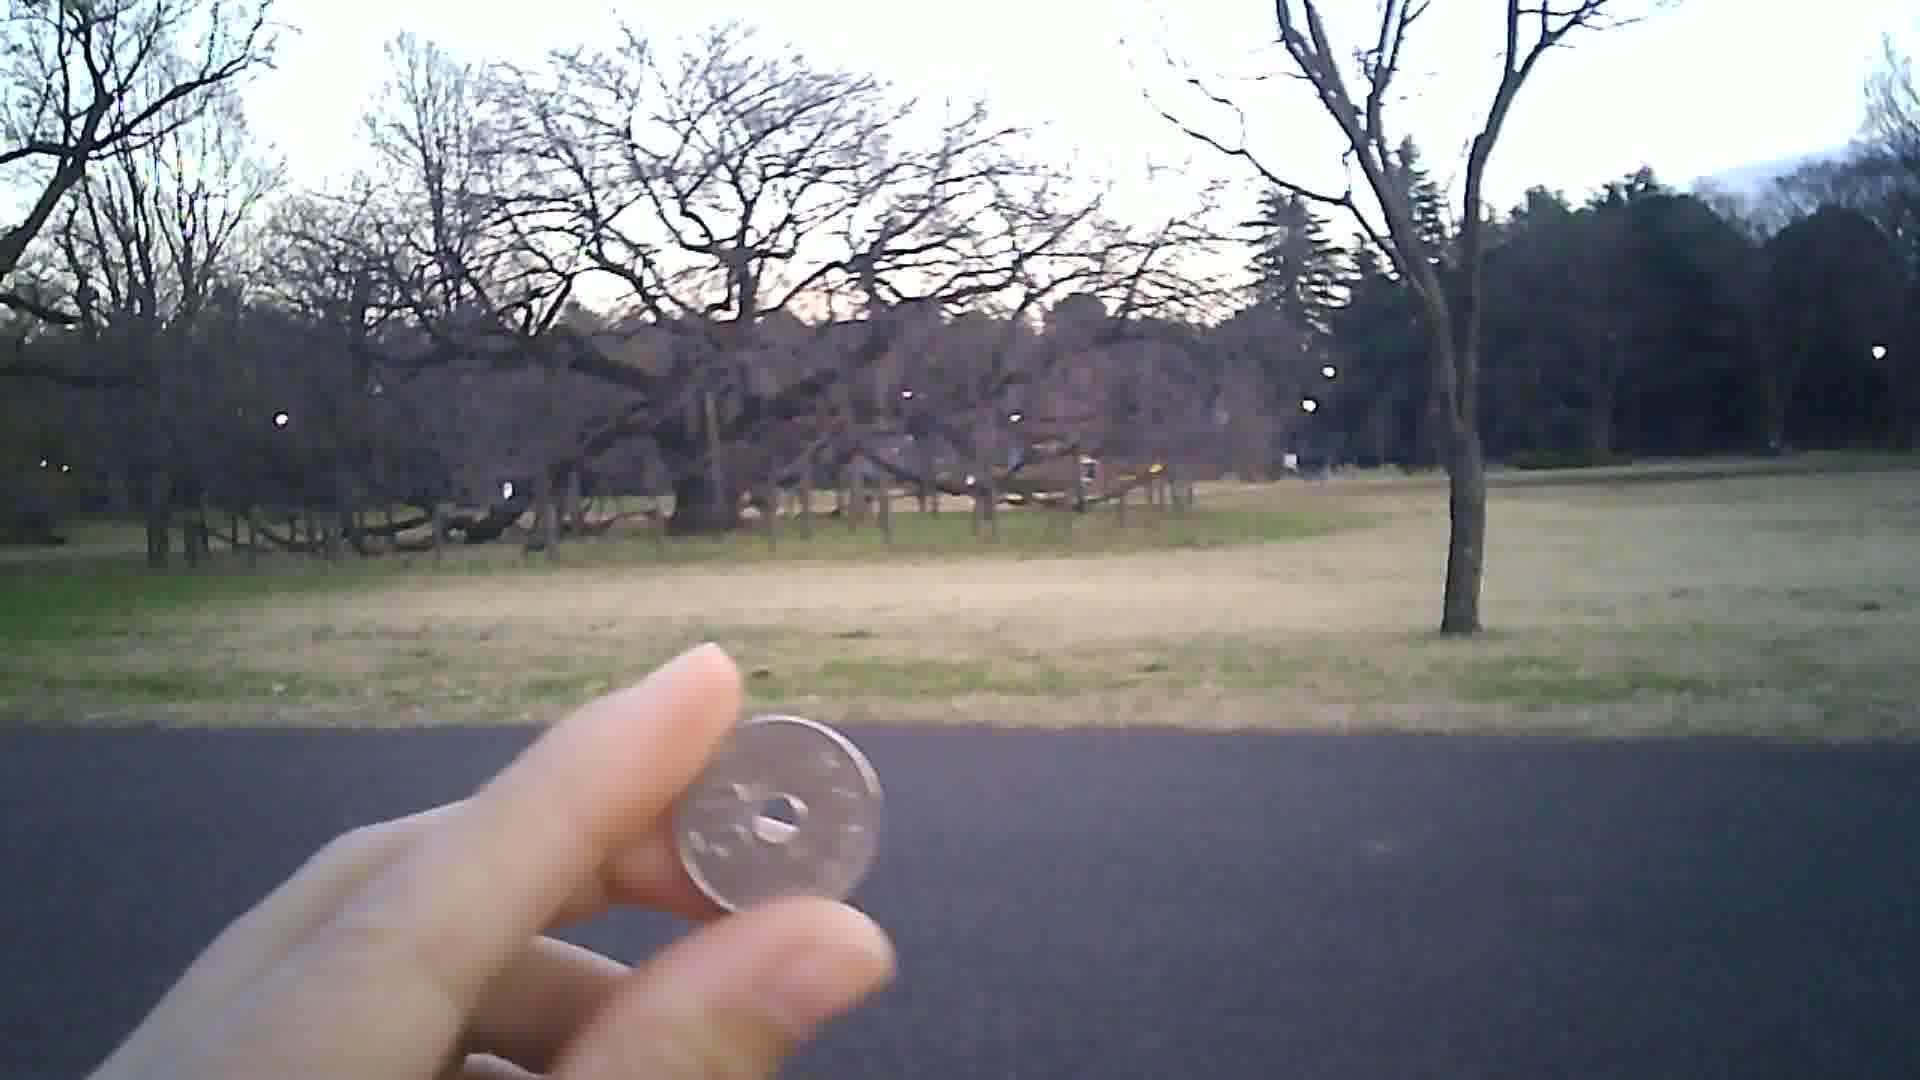50 Yen: (669, 713, 886, 916)
